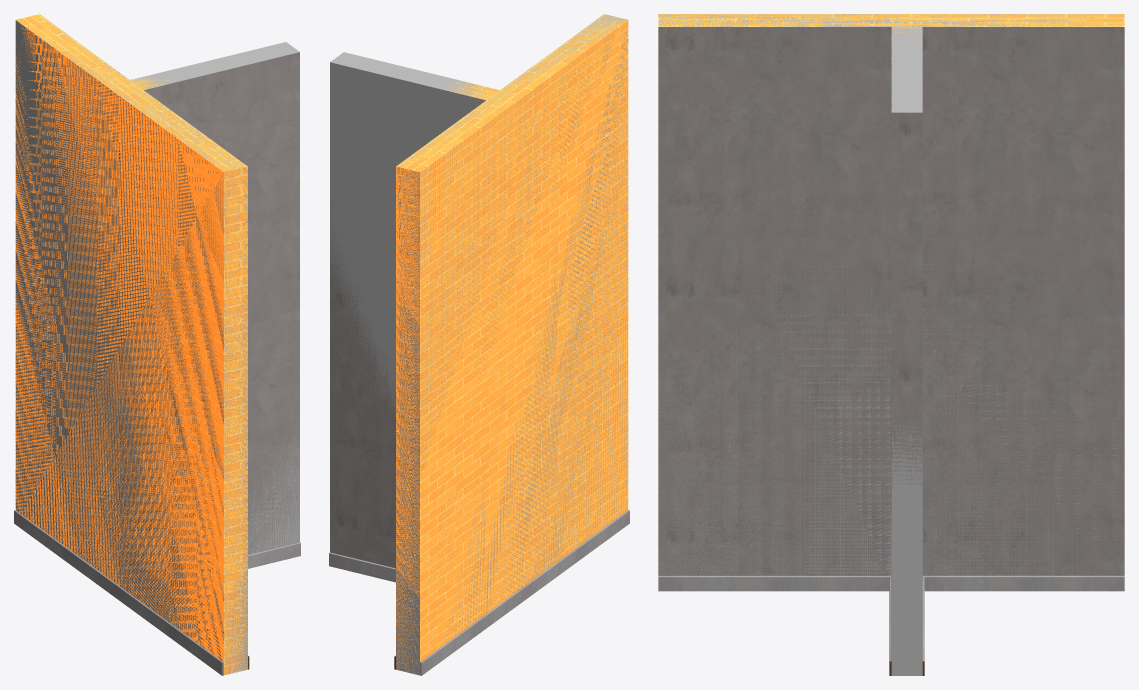
Rendered from SM_Wall_T_Intersection_3x3_5_01a.fbx.
The picture shows the model from 3 angles, left to right: view 1: azimuth 30°, elevation 25°; view 2: azimuth 150°, elevation 25°; view 3: azimuth 270°, elevation 25°; orthographic projection. The views are drawn at different scales.
Parts seen in each view (by area): view 1: SM_Wall_T_Intersection_3x3_5_01a, SM_Wall_T_Intersection_3x3_5_01a_ConvexHulls; view 2: SM_Wall_T_Intersection_3x3_5_01a, SM_Wall_T_Intersection_3x3_5_01a_ConvexHulls; view 3: SM_Wall_T_Intersection_3x3_5_01a, SM_Wall_T_Intersection_3x3_5_01a_ConvexHulls.
Boxes of the visible parts, x1,y1,x2,y2 form: SM_Wall_T_Intersection_3x3_5_01a: (14, 14, 300, 675); SM_Wall_T_Intersection_3x3_5_01a_ConvexHulls: (15, 17, 299, 674); SM_Wall_T_Intersection_3x3_5_01a: (329, 14, 629, 675); SM_Wall_T_Intersection_3x3_5_01a_ConvexHulls: (330, 14, 628, 675); SM_Wall_T_Intersection_3x3_5_01a: (658, 14, 1124, 675); SM_Wall_T_Intersection_3x3_5_01a_ConvexHulls: (658, 14, 1124, 675).
Size of the model in its own units: 151 by 300 by 400.
